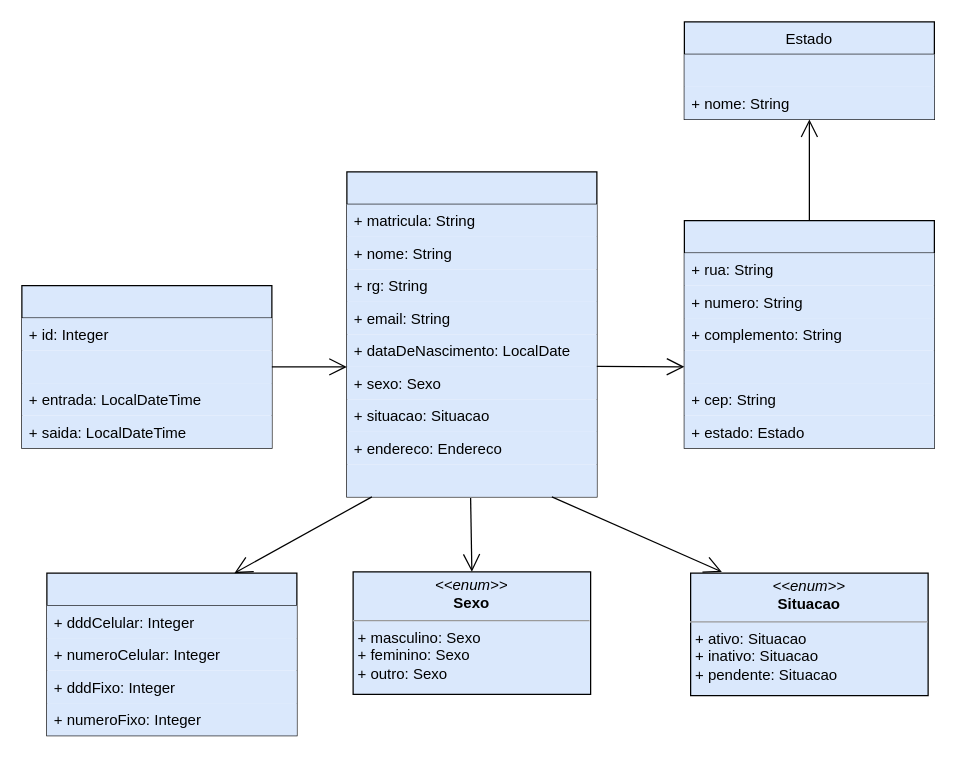
Some shapes in this 956 by 761 pixel diagram are drawn without their labels. The shapes that lost their labels are listed below. From the top down, each one's box as (x1, y1, x2, y2) in pixels, then its label:
(684, 54, 934, 86): + sigla: String
(346, 171, 597, 497): Aluno
(683, 219, 934, 448): Endereco
(21, 350, 271, 382): + aluno: Aluno
(21, 284, 272, 448): Acesso
(684, 350, 934, 382): + cidade: String
(346, 464, 596, 496): + telefone: Telefone
(46, 572, 297, 736): Telefone
